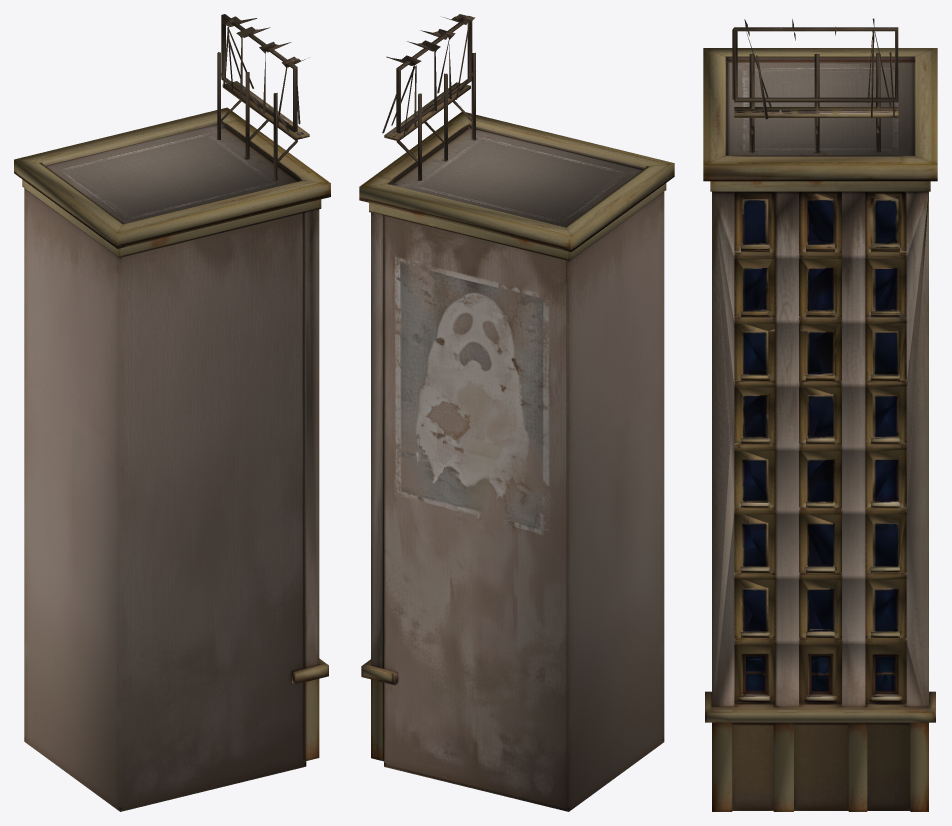
The model's file is building3.glb.
3 views of the same model, side by side, from view 1: azimuth 30°, elevation 25°; view 2: azimuth 150°, elevation 25°; view 3: azimuth 270°, elevation 25° (orthographic). The views are drawn at different scales.
Visible parts, largest first — view 1: tripo_node_a2ab24d8-3c0d-4c40-b1f6-3c5f78b6825f; view 2: tripo_node_a2ab24d8-3c0d-4c40-b1f6-3c5f78b6825f; view 3: tripo_node_a2ab24d8-3c0d-4c40-b1f6-3c5f78b6825f.
Boxes of the visible parts, x1,y1,x2,y2 form: tripo_node_a2ab24d8-3c0d-4c40-b1f6-3c5f78b6825f: (14, 14, 330, 811); tripo_node_a2ab24d8-3c0d-4c40-b1f6-3c5f78b6825f: (359, 14, 674, 811); tripo_node_a2ab24d8-3c0d-4c40-b1f6-3c5f78b6825f: (703, 18, 937, 811).
Bounding box in the file's own units: 0.3223 × 0.998 × 0.2676.
Materials: 1 (1 with a texture image).
